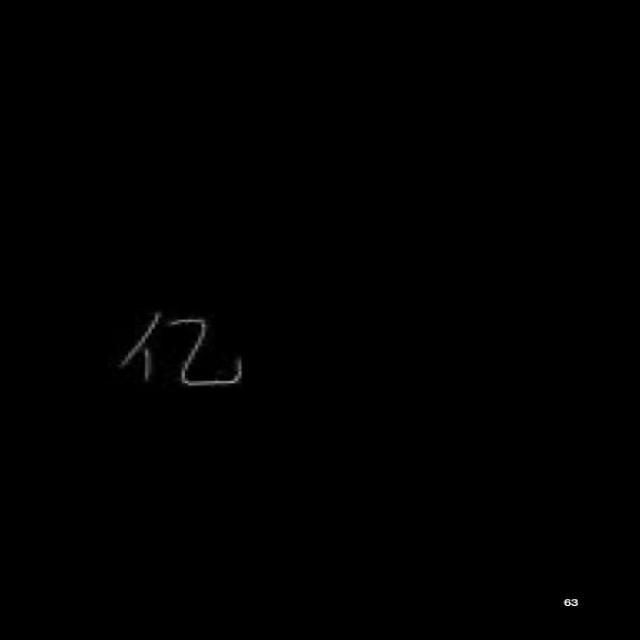100000 -a hundred thousand-: (105, 302, 251, 403)
